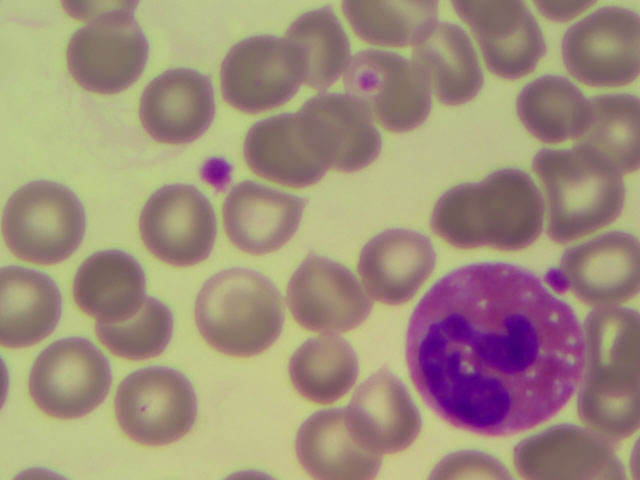Platelets: (205, 157, 232, 188), (545, 269, 572, 292), (358, 70, 379, 90)
RBC: (198, 270, 285, 360), (533, 149, 621, 232), (33, 332, 109, 418), (114, 367, 200, 440), (3, 186, 80, 262), (146, 184, 214, 270), (246, 111, 328, 180), (558, 19, 640, 88), (290, 259, 365, 334), (68, 21, 144, 93), (76, 250, 147, 325), (95, 292, 175, 358), (302, 413, 379, 480), (227, 36, 303, 103), (415, 23, 482, 99), (517, 434, 625, 480), (305, 97, 377, 165), (575, 97, 640, 172), (231, 183, 299, 254), (344, 370, 405, 449), (518, 73, 593, 137), (360, 232, 428, 300), (148, 73, 214, 143), (291, 9, 347, 91), (485, 170, 542, 250), (1, 268, 57, 347), (291, 332, 356, 399), (582, 226, 639, 300), (474, 11, 543, 72), (587, 364, 640, 439), (343, 1, 435, 43), (587, 305, 640, 377), (438, 184, 495, 248), (390, 70, 431, 132), (455, 1, 523, 37), (431, 455, 504, 480), (63, 1, 138, 20), (539, 1, 595, 25), (6, 464, 64, 480), (223, 470, 273, 480)
WBC: (423, 280, 558, 432)
